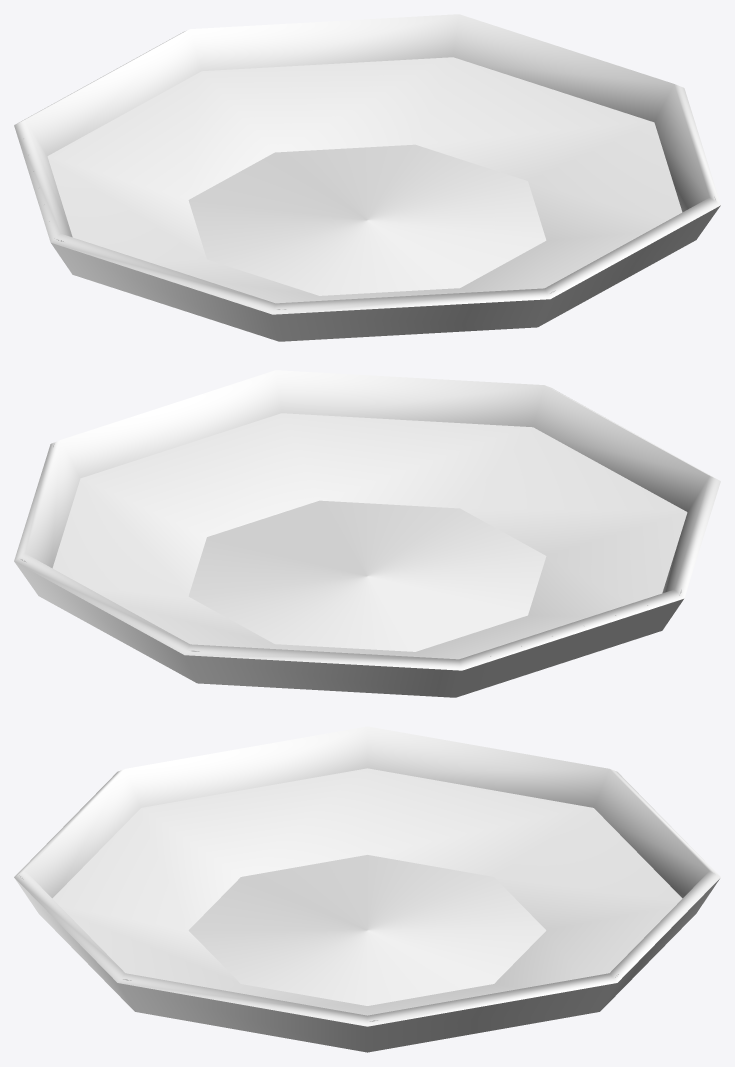
Rendered from PlatoPastel.obj.
3 views of the same model, one above another, from view 1: azimuth 30°, elevation 25°; view 2: azimuth 150°, elevation 25°; view 3: azimuth 270°, elevation 25° (orthographic). The views are drawn at different scales.
Parts seen in each view (by area): view 1: kitchenObj1:revolvedSurface11 pasted__group30 group8; view 2: kitchenObj1:revolvedSurface11 pasted__group30 group8; view 3: kitchenObj1:revolvedSurface11 pasted__group30 group8.
Boxes of the visible parts, x1,y1,x2,y2 form: kitchenObj1:revolvedSurface11 pasted__group30 group8: [14, 14, 720, 341]; kitchenObj1:revolvedSurface11 pasted__group30 group8: [14, 370, 720, 697]; kitchenObj1:revolvedSurface11 pasted__group30 group8: [14, 726, 720, 1052].
Size of the model in its own units: 0.6781 by 0.075 by 0.6781.
1 material, 1 textured.
